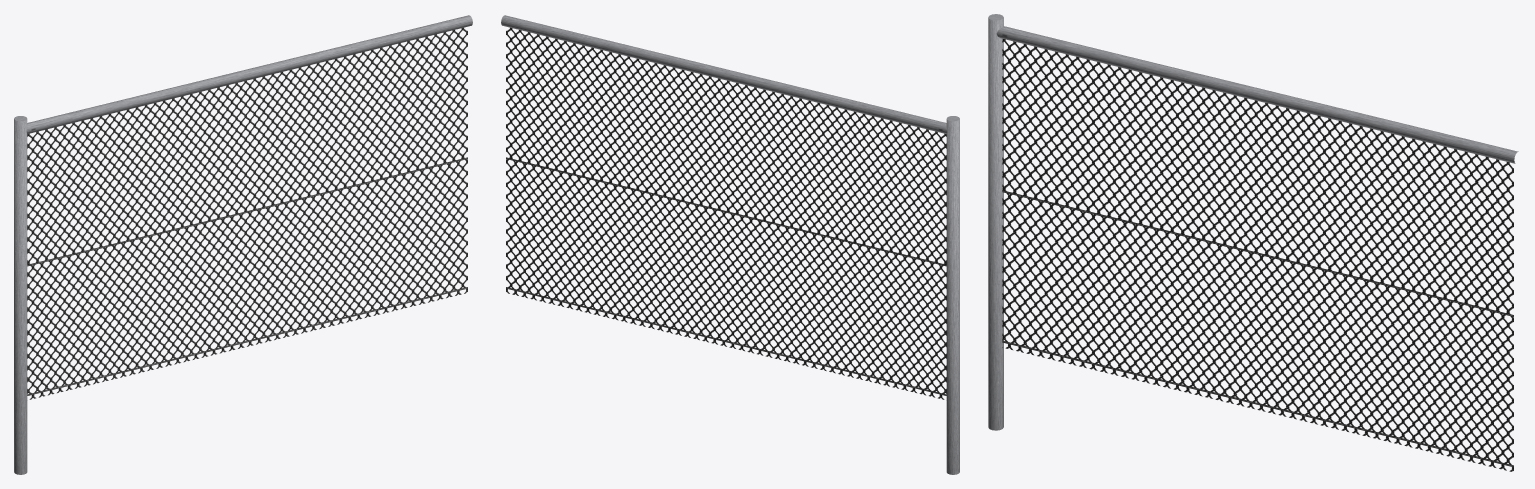
The model's file is fence-tall-chainlink-1rail-start-1s-cbj_LOD00.gltf.
3 renders of one model, left to right at view 1: azimuth 30°, elevation 25°; view 2: azimuth 150°, elevation 25°; view 3: azimuth 330°, elevation 25°, orthographic. The views are drawn at different scales.
Visible parts, largest first — view 1: cube00; view 2: cube00; view 3: cube00.
Part boxes in pixels (x1=…): cube00: x1=14, y1=15, x2=472, y2=474; cube00: x1=501, y1=15, x2=959, y2=474; cube00: x1=988, y1=14, x2=1518, y2=471.
Bounding box in the file's own units: 3.14 × 2.33 × 0.08.
